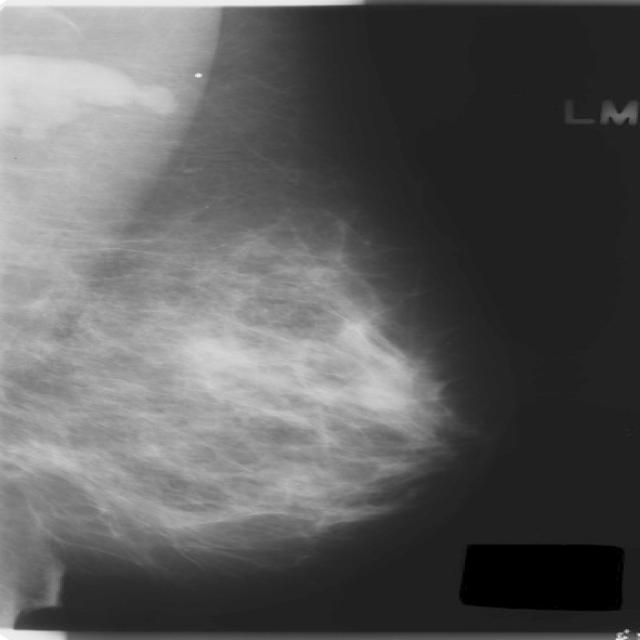tumour: (0, 51, 173, 133)
